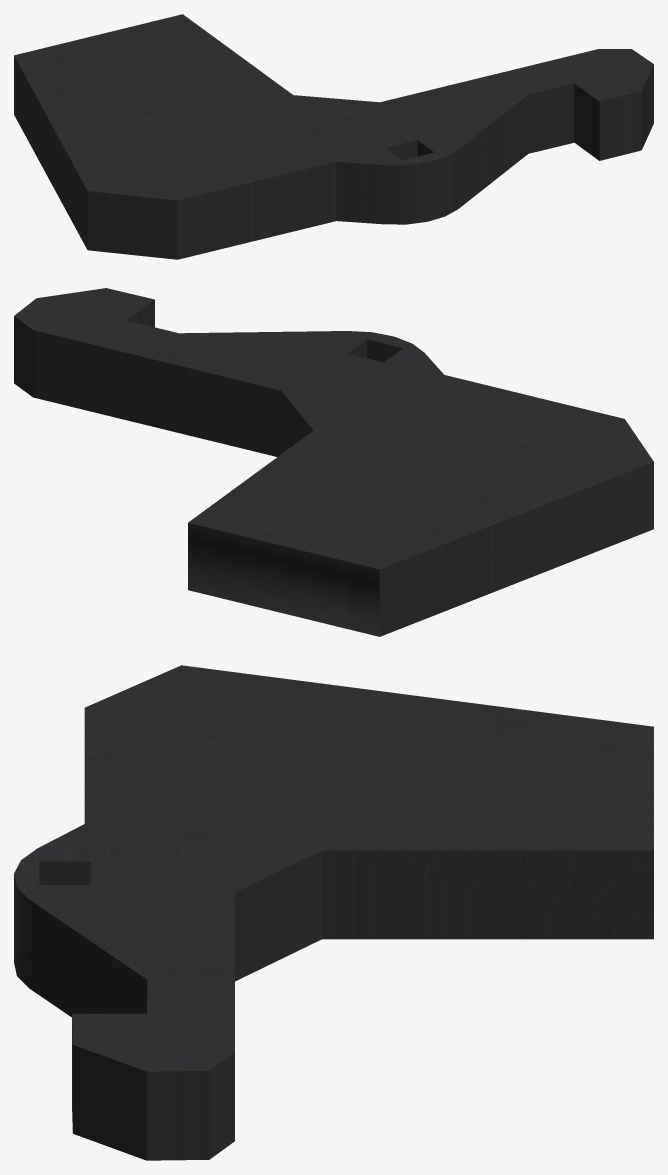
File: Charging_Handle_Latch.dae
The picture shows the model from 3 angles, top to bottom: view 1: azimuth 30°, elevation 25°; view 2: azimuth 150°, elevation 25°; view 3: azimuth 270°, elevation 25°; orthographic projection. The views are drawn at different scales.
Visible parts, largest first — view 1: Charging_Handle_Latch; view 2: Charging_Handle_Latch; view 3: Charging_Handle_Latch.
Part boxes in pixels (left/top/right/bottom): Charging_Handle_Latch: left=14, top=14, right=653, bottom=259; Charging_Handle_Latch: left=14, top=288, right=653, bottom=636; Charging_Handle_Latch: left=14, top=665, right=653, bottom=1160.
Bounding box in the file's own units: 0.0302 × 0.0201 × 0.00309.
1 material, 1 textured.
